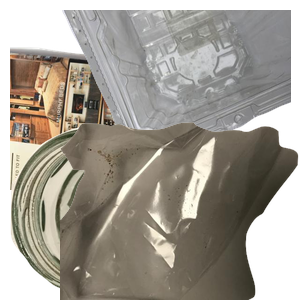glass: (10, 126, 220, 300)
paper: (10, 44, 232, 224)
plastic: (60, 10, 300, 162)
trash: (60, 120, 300, 300)
